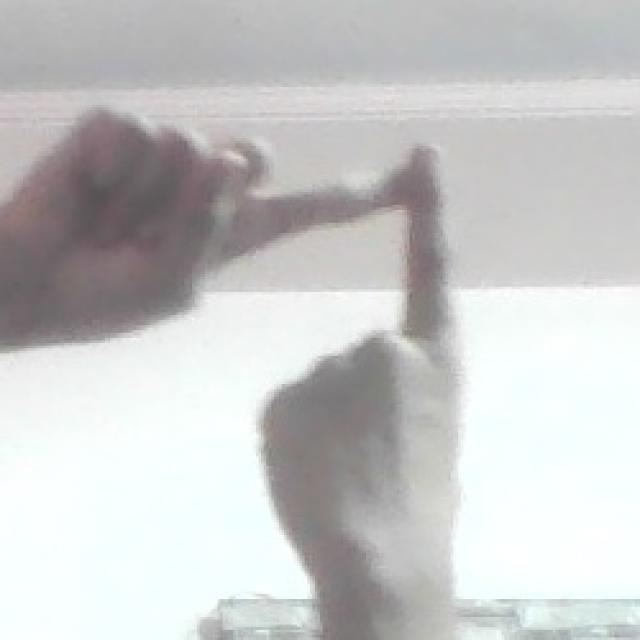Alphabet-E: (28, 91, 477, 613)
